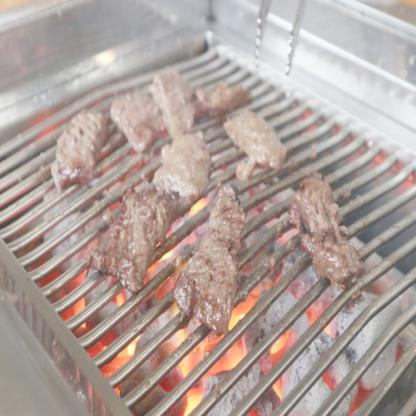Carne: (94, 170, 175, 297), (284, 168, 374, 281), (178, 184, 248, 329), (219, 105, 301, 168), (155, 122, 212, 204), (52, 102, 101, 187), (150, 64, 205, 132), (112, 91, 162, 151)
